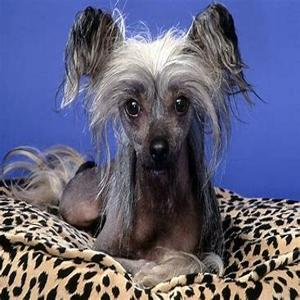dog: (71, 19, 231, 246)
